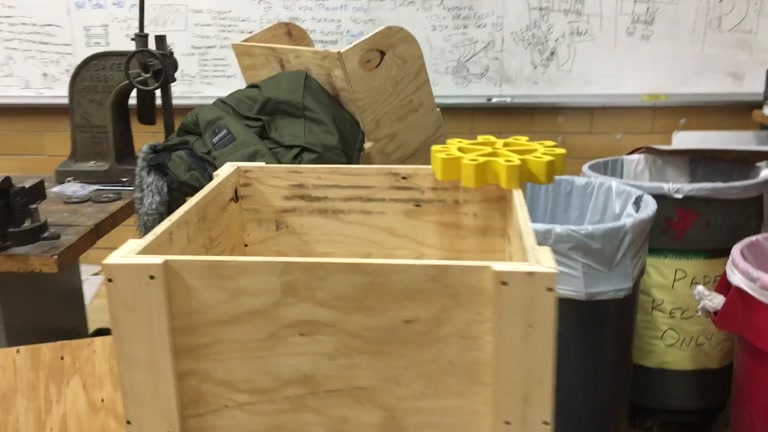gear: (428, 133, 567, 189)
